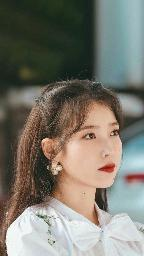face: (68, 108, 120, 186)
